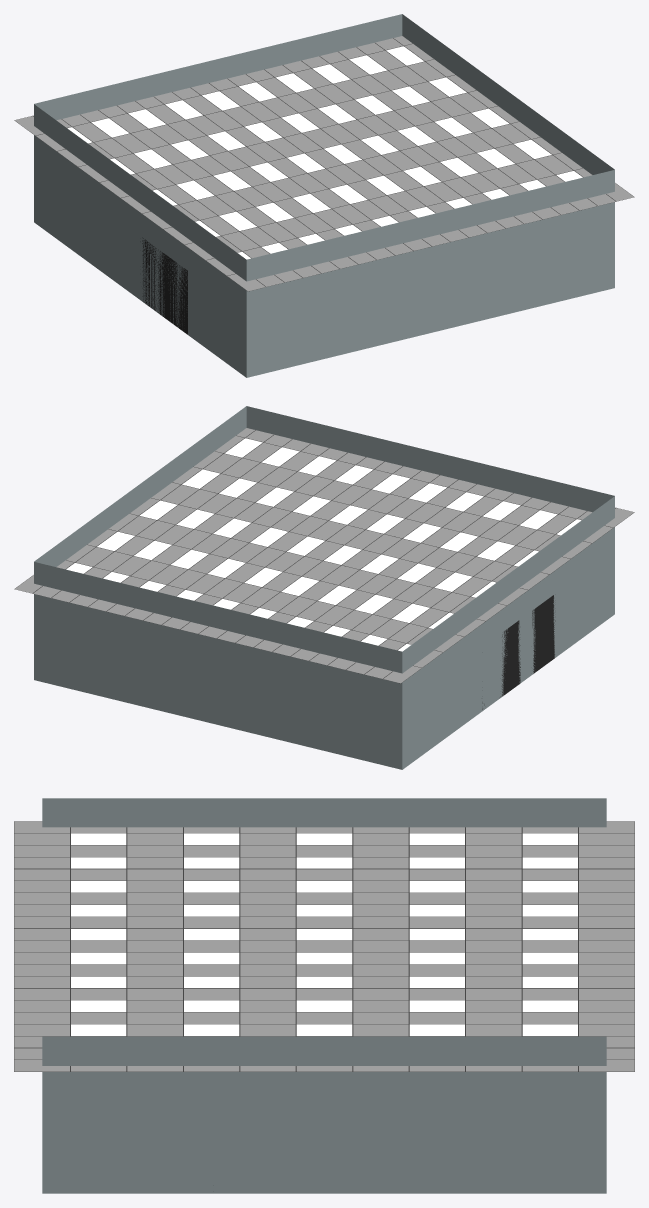
Rendered from serverRoom.glb.
The picture shows the model from 3 angles, top to bottom: view 1: azimuth 30°, elevation 25°; view 2: azimuth 150°, elevation 25°; view 3: azimuth 270°, elevation 25°; orthographic projection. The views are drawn at different scales.
Visible parts, largest first — view 1: Room, Ceiling, Rack.024, Rack.026, Rack.020, Rack.025; view 2: Room, Ceiling, Rack.024, Rack.018, Rack.026; view 3: Ceiling, Room.
Boxes of the visible parts, x1,y1,x2,y2 form: Room: (34, 14, 614, 377); Ceiling: (14, 36, 634, 291); Rack.024: (166, 255, 177, 326); Rack.026: (177, 264, 187, 334); Rack.020: (145, 240, 156, 310); Rack.025: (156, 248, 166, 318); Room: (34, 406, 614, 769); Ceiling: (14, 428, 634, 683); Rack.024: (535, 601, 545, 672); Rack.018: (503, 624, 513, 695); Rack.026: (546, 595, 555, 664); Ceiling: (14, 821, 634, 1071); Room: (42, 798, 606, 1193).
Bounding box in the file's own units: 12.6 × 3.68 × 13.2.
9 materials, 3 textured.
